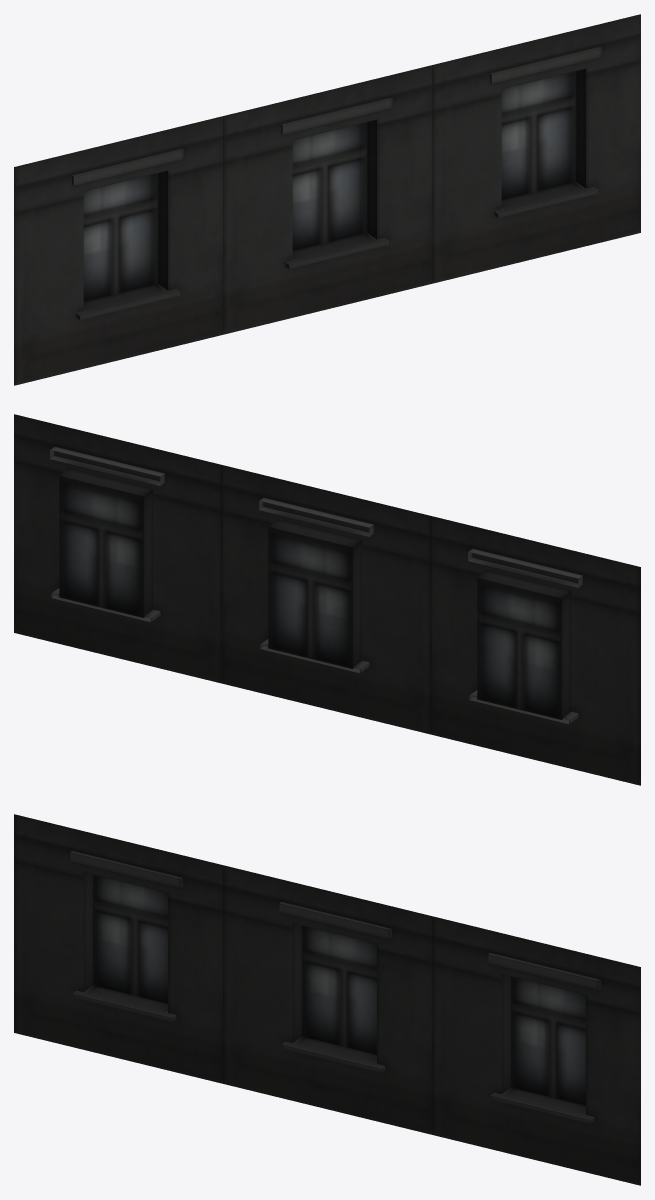
The model's file is B9_WindowB3x.FBX.
3 views of the same model, one above another, from view 1: azimuth 30°, elevation 25°; view 2: azimuth 150°, elevation 25°; view 3: azimuth 330°, elevation 25° (orthographic).
Visible parts, largest first — view 1: B9_WindowB3x; view 2: B9_WindowB3x; view 3: B9_WindowB3x.
Boxes of the visible parts, x1=… form: B9_WindowB3x: x1=14, y1=14, x2=640, y2=385; B9_WindowB3x: x1=14, y1=414, x2=640, y2=785; B9_WindowB3x: x1=14, y1=814, x2=640, y2=1185.
Size of the model in its own units: 12 by 4 by 0.4395.
